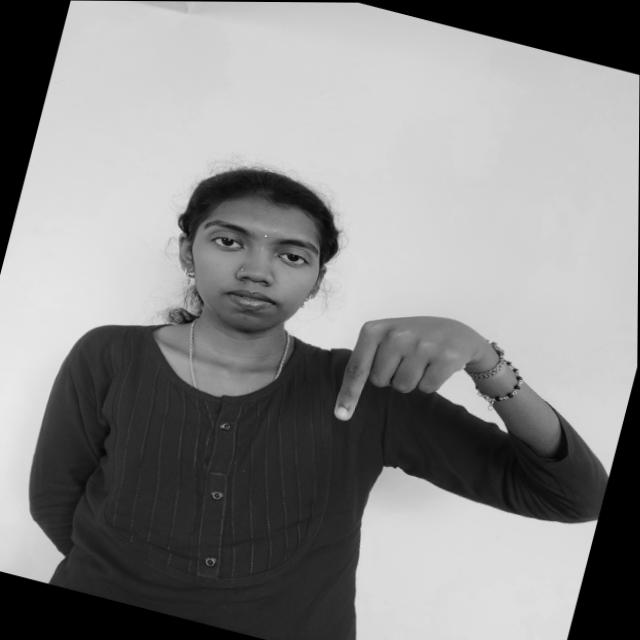Now: (324, 286, 493, 451)
